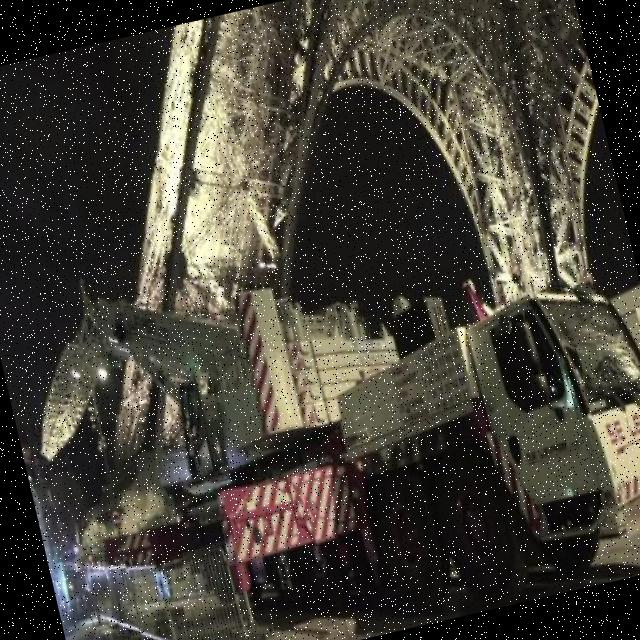Mobile Crane: (6, 165, 640, 640)
